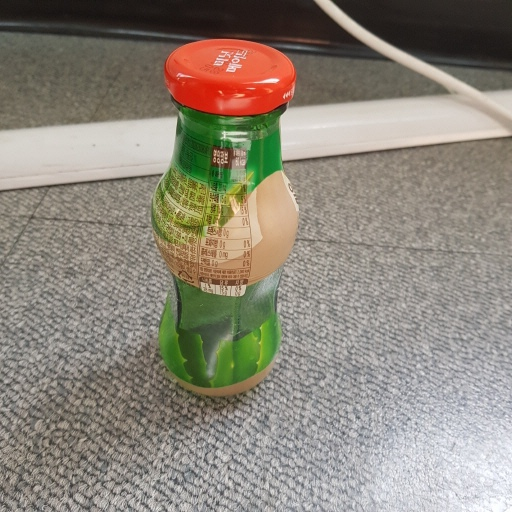Glass_4: (147, 37, 302, 399)
